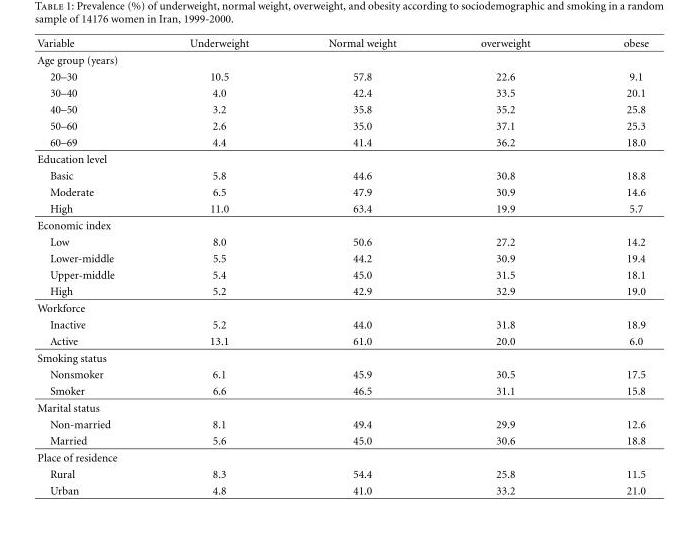table: (36, 36, 647, 496)
table column: (288, 36, 437, 496), (437, 36, 576, 496), (153, 36, 288, 496), (36, 36, 153, 496), (576, 36, 647, 496)
table column header: (36, 36, 647, 51)
table projected row header: (36, 150, 647, 167), (36, 216, 647, 233), (36, 299, 647, 316), (36, 448, 647, 465), (36, 51, 647, 67), (36, 349, 647, 365), (36, 399, 647, 415)
table row: (36, 67, 647, 84), (36, 100, 647, 117), (36, 133, 647, 150), (36, 150, 647, 167), (36, 183, 647, 200), (36, 216, 647, 233), (36, 249, 647, 266), (36, 282, 647, 299), (36, 299, 647, 316), (36, 332, 647, 349), (36, 365, 647, 382), (36, 382, 647, 399), (36, 415, 647, 432), (36, 448, 647, 465), (36, 465, 647, 482), (36, 51, 647, 67), (36, 84, 647, 100), (36, 117, 647, 133), (36, 167, 647, 183), (36, 200, 647, 216), (36, 233, 647, 249), (36, 266, 647, 282), (36, 316, 647, 332), (36, 349, 647, 365), (36, 399, 647, 415), (36, 432, 647, 448), (36, 36, 647, 51), (36, 482, 647, 496)
